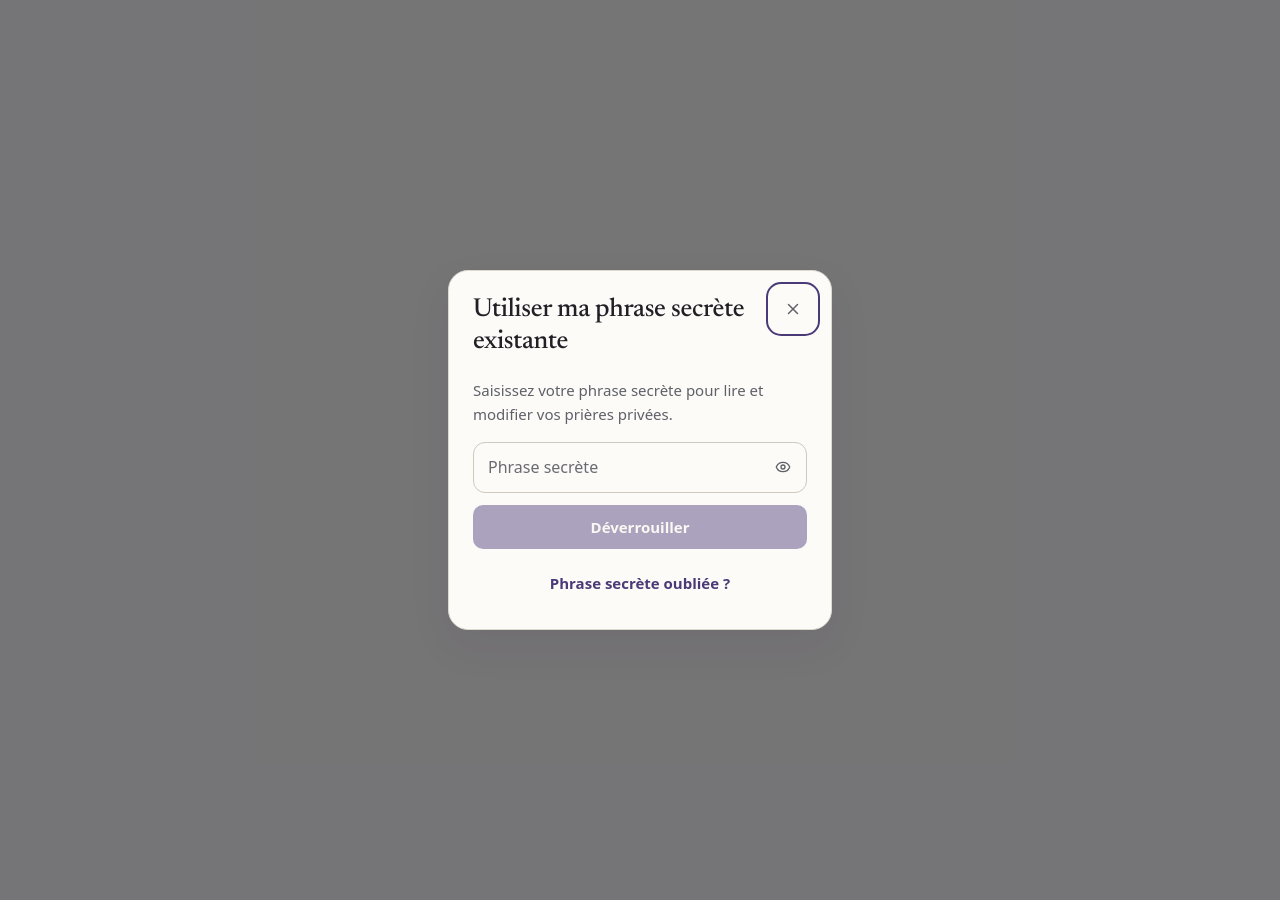
Scenario: VaultModal actions › recovers from an unexpected crypto failure instead of leaving the button busy
Step 1. Type "correct passphrase" into the password field with placeholder "Phrase secrète" → (640, 467), box 473,442 -> 807,493
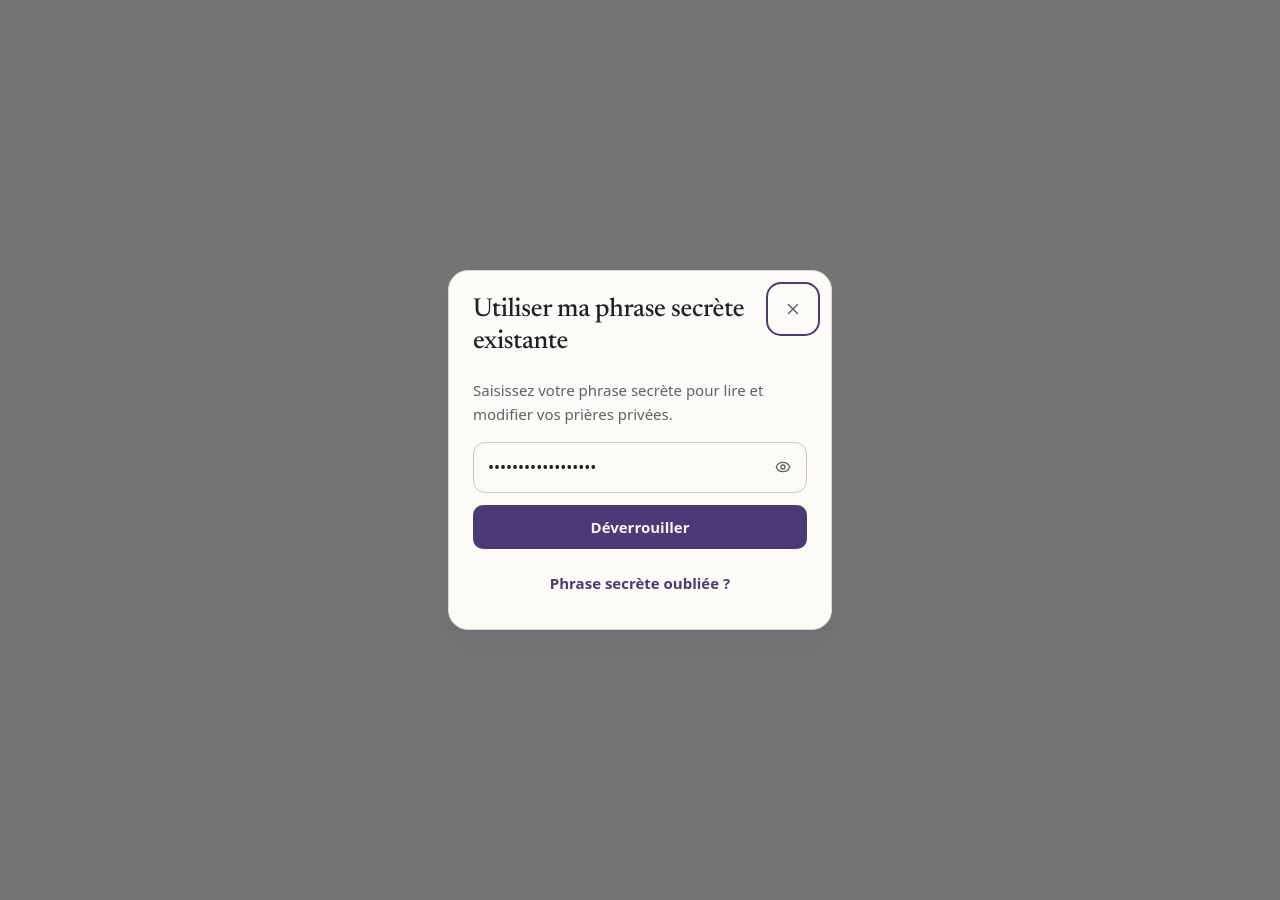
Step 2. Click the button "Déverrouiller" → (640, 527), box 473,505 -> 807,549
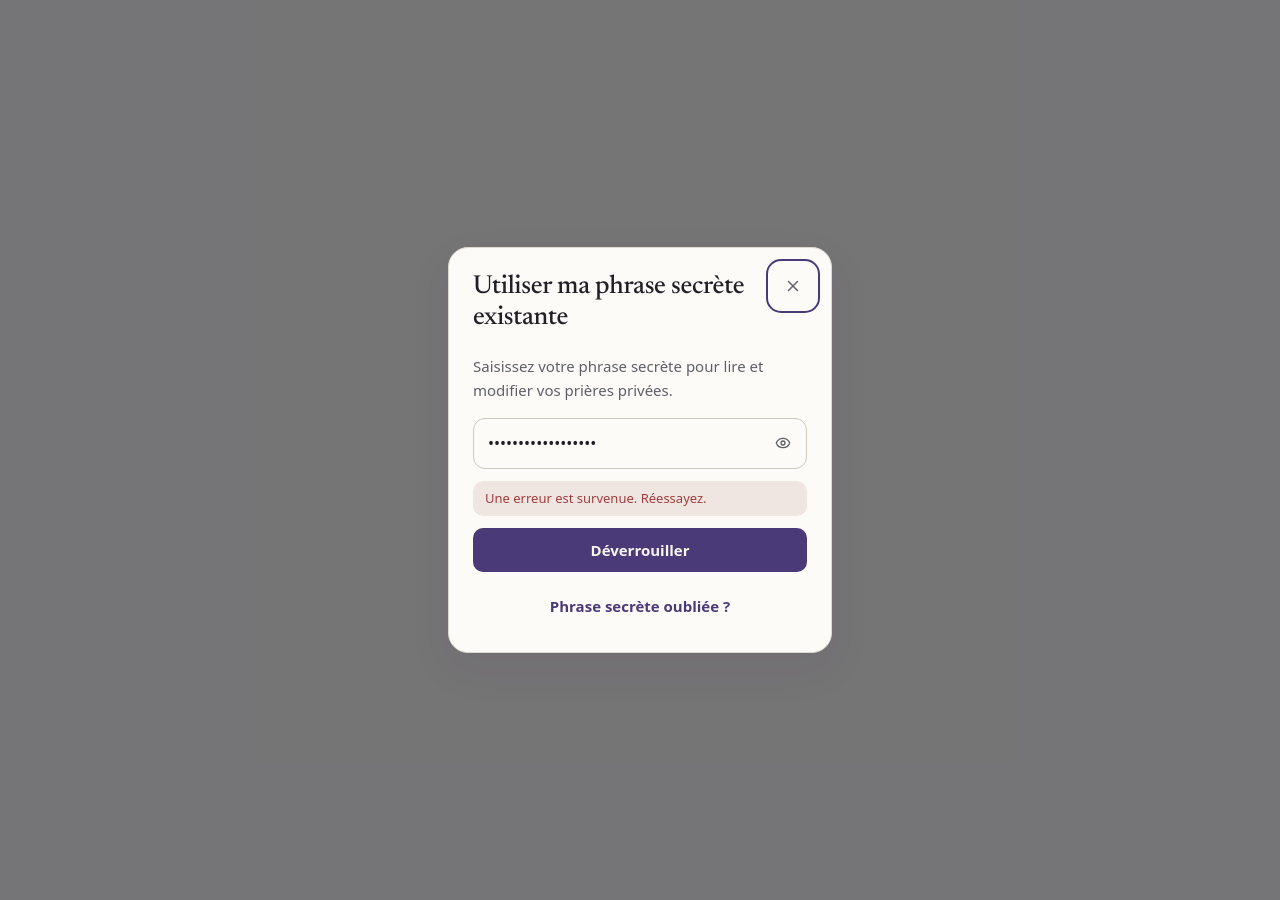
Result: the button "Déverrouiller" is enabled at 473,528 -> 807,572
Result: the text "Une erreur est survenue. Réessayez." is shown at 473,481 -> 807,516
